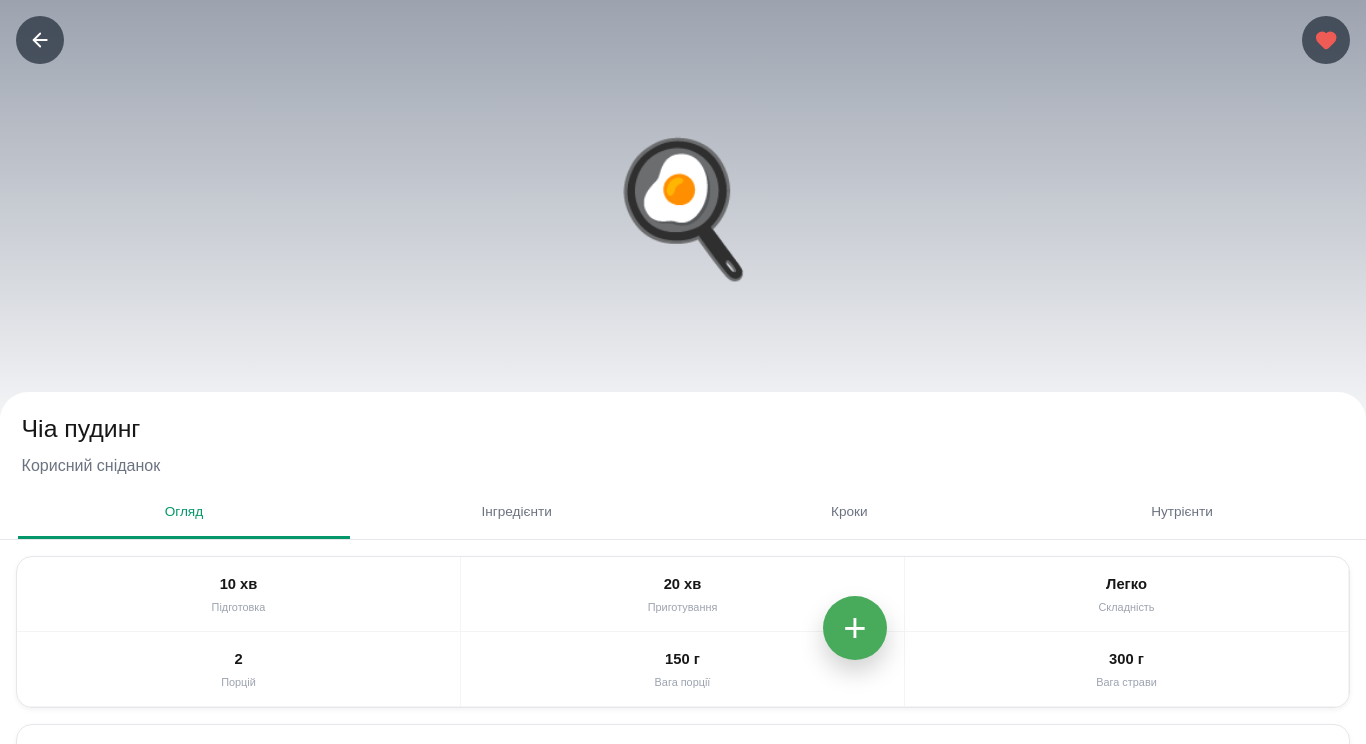
FoodDetails › renders recipe overview, ingredient links and nutrients per 100 grams
Expected: the heading "Чіа пудинг" is shown, x1=22 y1=415 x2=140 y2=442
Expected: the text "Легко" is shown, x1=1106 y1=573 x2=1147 y2=595
Click the tab "Інгредієнти" at (517, 513), box x1=350 y1=488 x2=683 y2=539
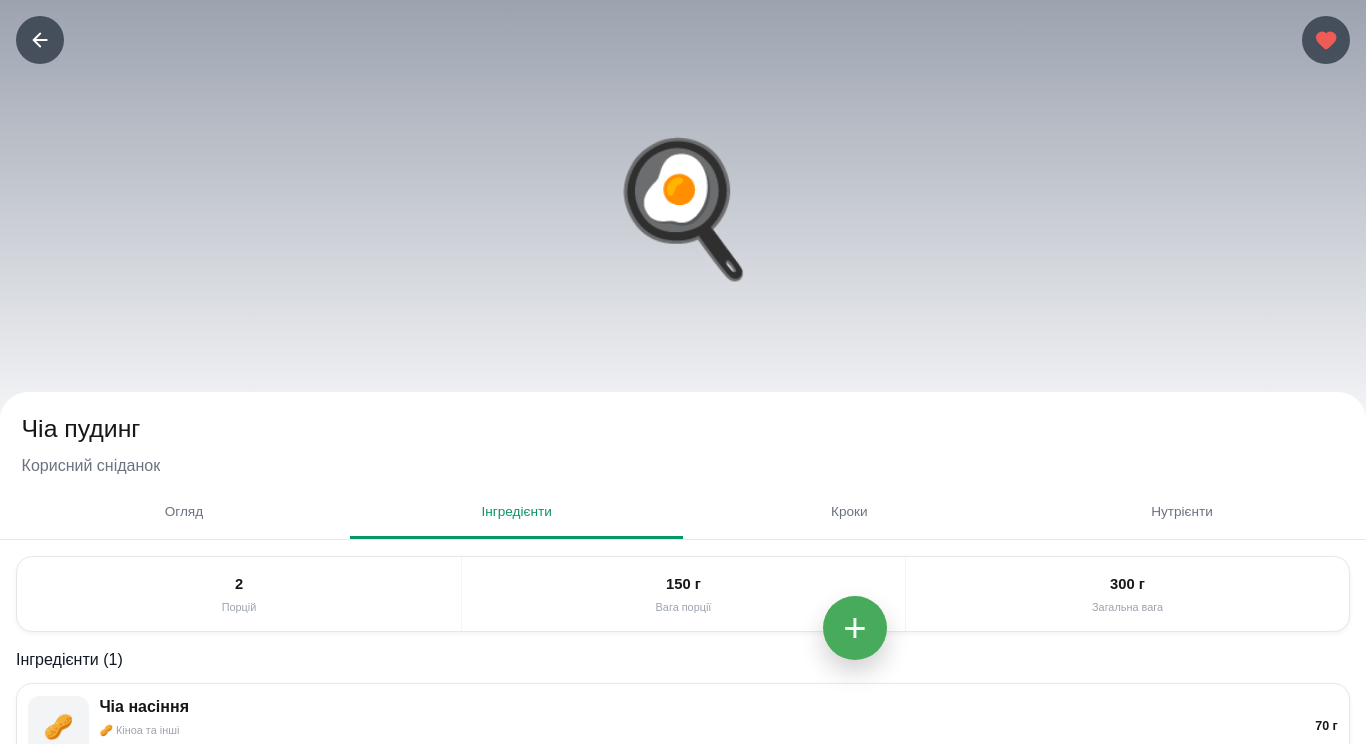
Click the tab "Нутрієнти" at (1182, 513), box x1=1016 y1=488 x2=1348 y2=539
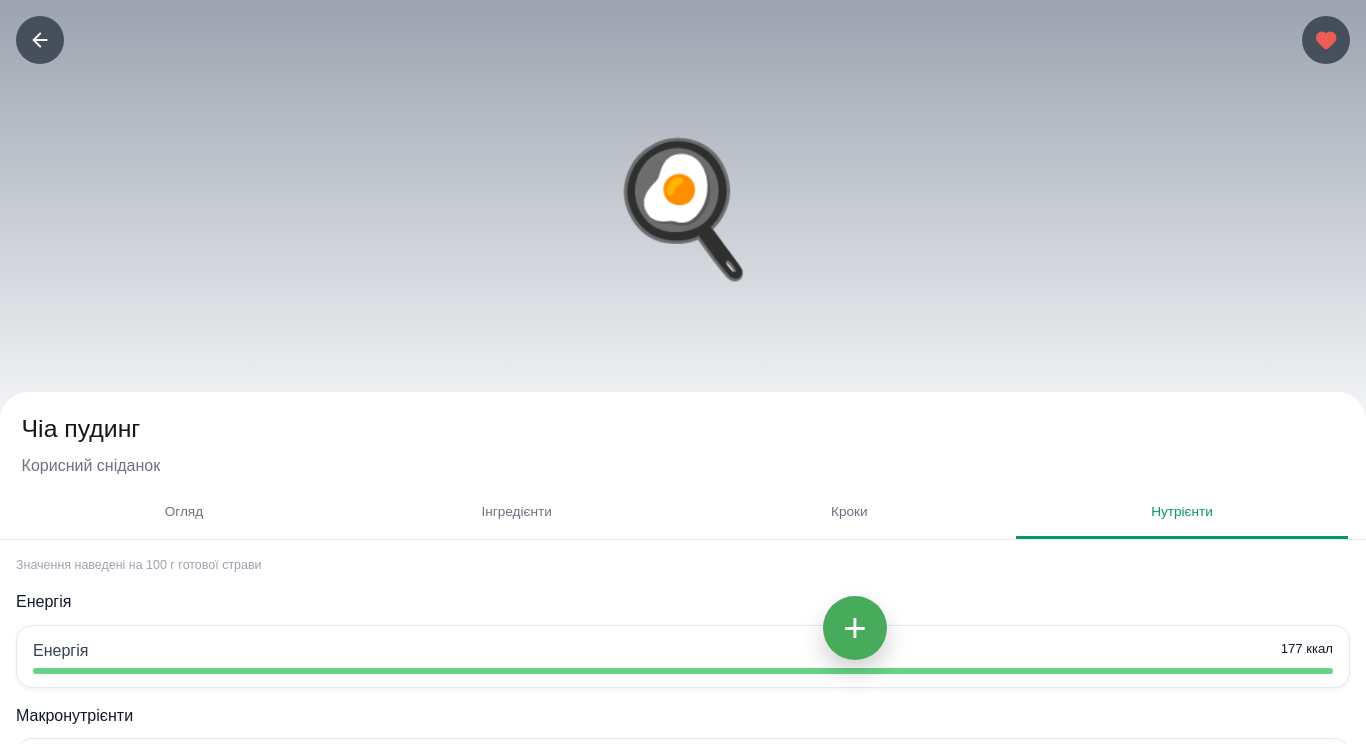
Now the text "Значення наведені на 100 г готової страви" is shown, box x1=16 y1=558 x2=262 y2=572
Now the progress indicator is shown, box x1=33 y1=668 x2=1333 y2=674
